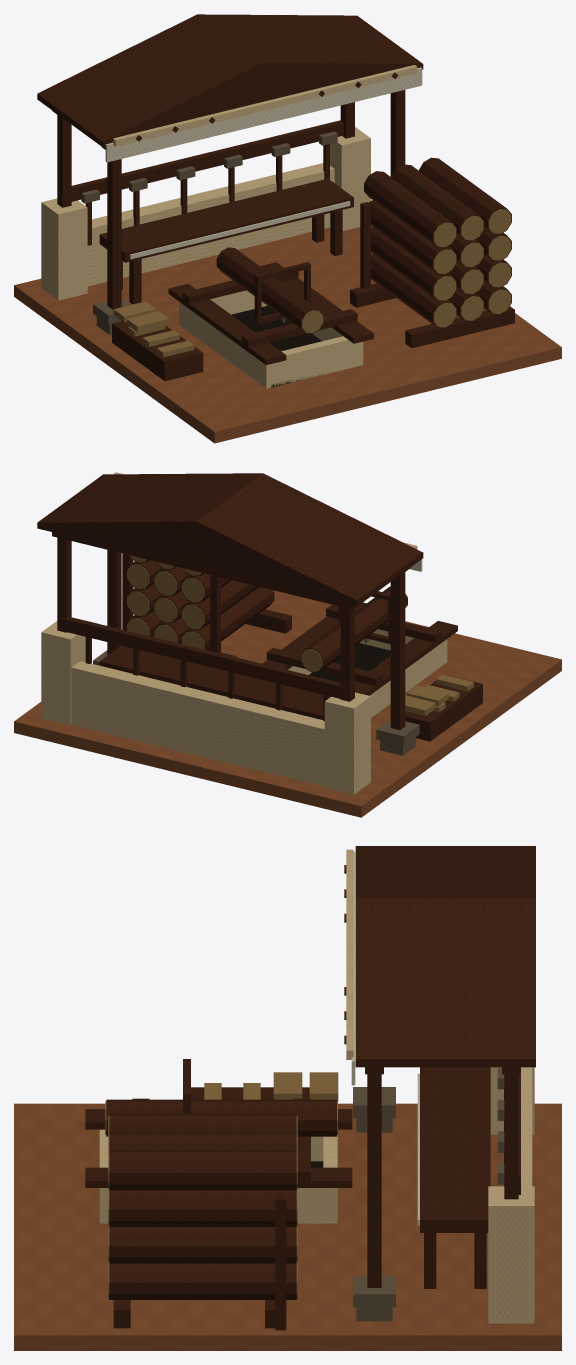
File: Berber_Lumber_Age4.fbx
3 renders of one model, top to bottom at view 1: azimuth 30°, elevation 25°; view 2: azimuth 150°, elevation 25°; view 3: azimuth 270°, elevation 25°, orthographic. The views are drawn at different scales.
Visible parts, largest first — view 1: yard_foundation, covered_tool_roof, rear_low_masonry, tool_bench_top, owner_front_roof_valance, shelter_stone_pier, tool_rack_backrail, carved_front_fascia, sawpit_work_log, shelter_stone_pier.001, sorted_timber.009, pit_end (+23 smaller); view 2: covered_tool_roof, yard_foundation, rear_low_masonry, tool_bench_top, tool_rack_backrail, shelter_stone_pier, shelter_stone_pier.001, shelter_post, sawpit_work_log, offcut_sorting_bin, sorted_timber, pit_side (+22 smaller); view 3: yard_foundation, covered_tool_roof, tool_bench_top, sorted_timber.011, sorted_timber.008, sorted_timber.005, sorted_timber.002, shelter_stone_pier.001, sawpit_work_log, sorted_timber.009, sorted_timber.010, shelter_post.002 (+17 smaller).
Part boxes in pixels (left/top/right/bottom): yard_foundation: left=14, top=226, right=561, bottom=443; covered_tool_roof: left=37, top=14, right=423, bottom=147; rear_low_masonry: left=87, top=163, right=334, bottom=286; tool_bench_top: left=99, top=178, right=353, bottom=262; owner_front_roof_valance: left=105, top=67, right=422, bottom=162; shelter_stone_pier: left=41, top=198, right=87, bottom=300; tool_rack_backrail: left=71, top=120, right=343, bottom=201; carved_front_fascia: left=113, top=65, right=417, bottom=146; sawpit_work_log: left=216, top=247, right=323, bottom=333; shelter_stone_pier.001: left=330, top=127, right=370, bottom=230; sorted_timber.009: left=364, top=171, right=456, bottom=247; pit_end: left=275, top=336, right=353, bottom=385; covered_tool_roof: left=37, top=473, right=423, bottom=606; yard_foundation: left=14, top=590, right=561, bottom=817; rear_low_masonry: left=71, top=661, right=324, bottom=786; tool_bench_top: left=99, top=645, right=330, bottom=719; tool_rack_backrail: left=60, top=617, right=346, bottom=699; shelter_stone_pier: left=324, top=692, right=370, bottom=794; shelter_stone_pier.001: left=41, top=621, right=85, bottom=725; shelter_post: left=390, top=572, right=405, bottom=729; sawpit_work_log: left=300, top=586, right=407, bottom=672; offcut_sorting_bin: left=405, top=674, right=482, bottom=741; sorted_timber: left=181, top=587, right=274, bottom=650; pit_side: left=369, top=639, right=447, bottom=717; yard_foundation: left=14, top=1103, right=561, bottom=1350; covered_tool_roof: left=355, top=846, right=535, bottom=1067; tool_bench_top: left=420, top=1067, right=490, bottom=1232; sorted_timber.011: left=109, top=1150, right=296, bottom=1190; sorted_timber.008: left=109, top=1190, right=296, bottom=1226; sorted_timber.005: left=109, top=1227, right=296, bottom=1263; sorted_timber.002: left=109, top=1263, right=296, bottom=1299; shelter_stone_pier.001: left=488, top=1186, right=534, bottom=1323; sawpit_work_log: left=106, top=1099, right=336, bottom=1136; sorted_timber.009: left=109, top=1114, right=296, bottom=1132; sorted_timber.010: left=109, top=1132, right=296, bottom=1150; shelter_post.002: left=367, top=1074, right=381, bottom=1287.
Size of the model in its own units: 380 by 258 by 380.
Materials: 7 (7 with a texture image).
